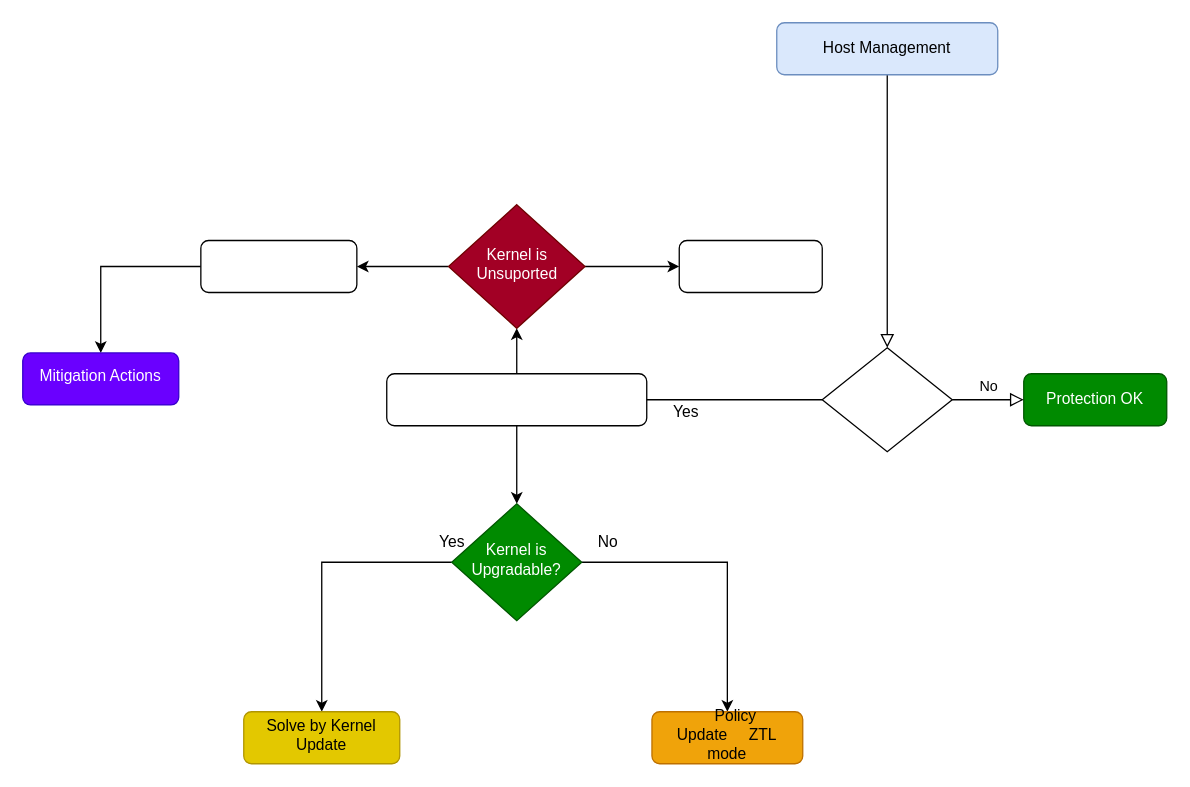
The diagram is 1190 pixels wide and 787 high, and some of its shapes have lost their labels. Here are the shapes that lost their labels. From the top down, the box of each, then its label:
(200, 239, 357, 292): Impossible Update
(678, 239, 822, 292): Waiting New Release
(385, 372, 647, 426): Check minimum Sensor Version
(821, 346, 952, 452): Host is RFM?
